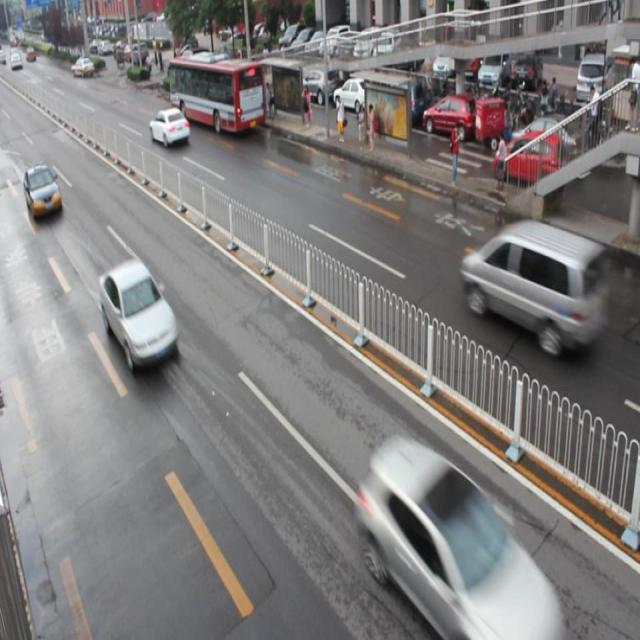car: (358, 437, 560, 632), (98, 256, 179, 366), (24, 162, 62, 222), (150, 107, 190, 148)
truck: (462, 218, 598, 352)
van: (168, 53, 264, 132)
